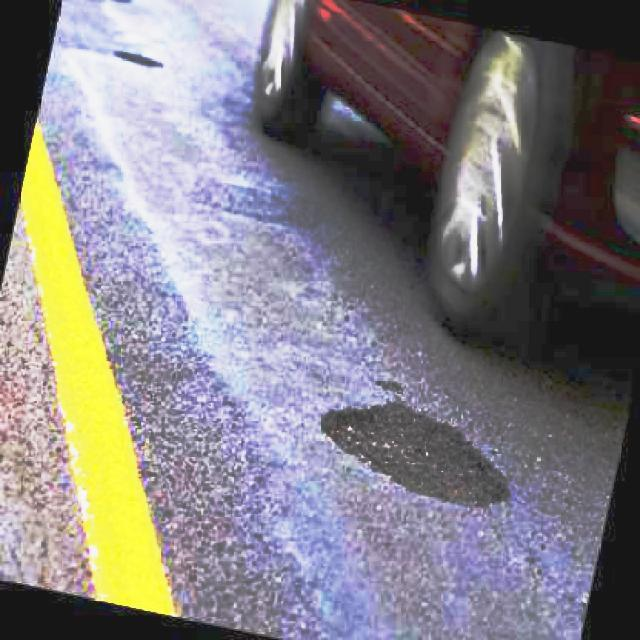pothole: (318, 400, 511, 505)
